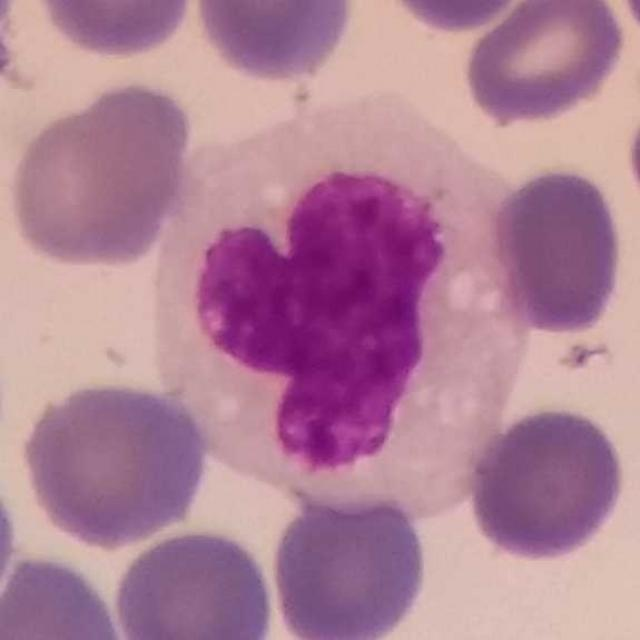Monocyte: (150, 94, 542, 528)
RBC: (3, 76, 200, 272), (15, 376, 214, 551), (462, 401, 631, 565), (265, 484, 434, 640), (485, 162, 629, 338), (460, 0, 630, 127), (109, 523, 281, 640), (188, 0, 360, 86), (0, 551, 131, 640), (27, 0, 200, 61), (380, 0, 538, 35), (0, 463, 21, 627), (621, 85, 640, 224)
